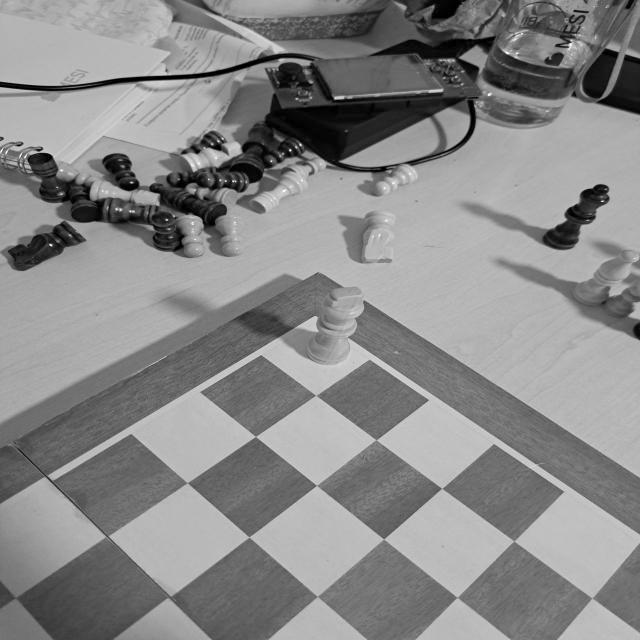chess-table-corners: (308, 312, 322, 320)
